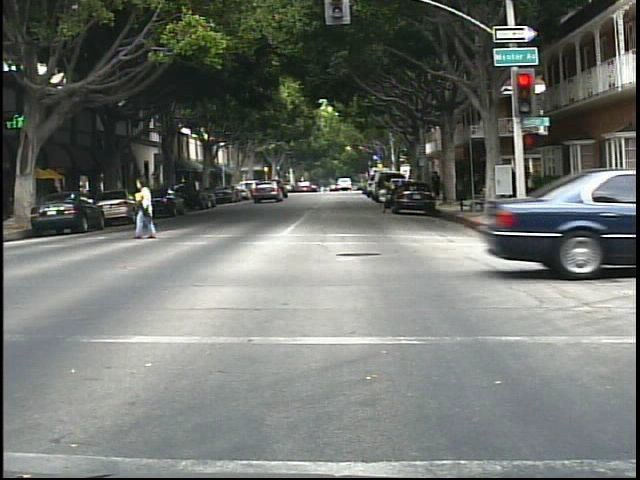person: (128, 173, 165, 241), (428, 165, 448, 203), (375, 174, 393, 216)
